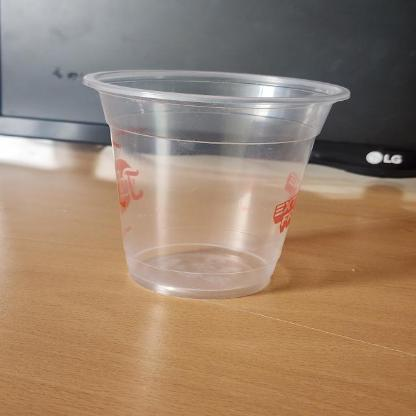Plastic Cup: (82, 68, 354, 296)
